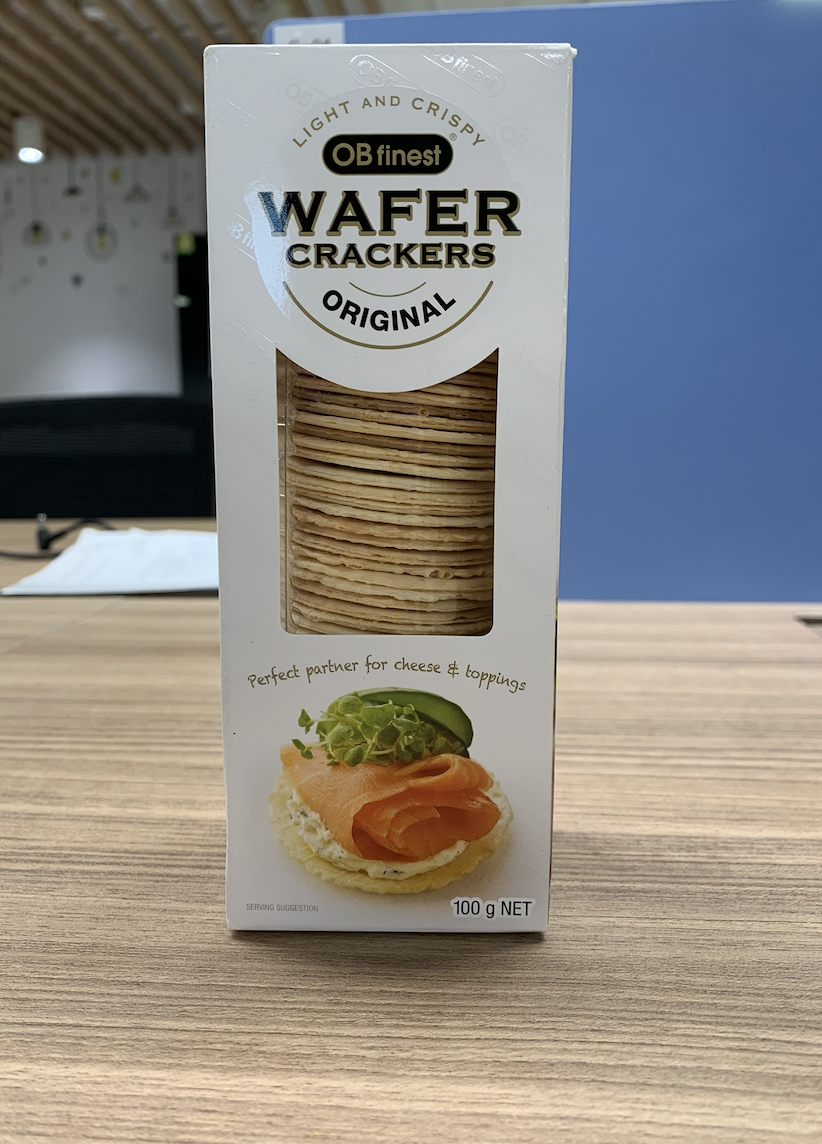crackers_100g-199g: (224, 57, 547, 923)
